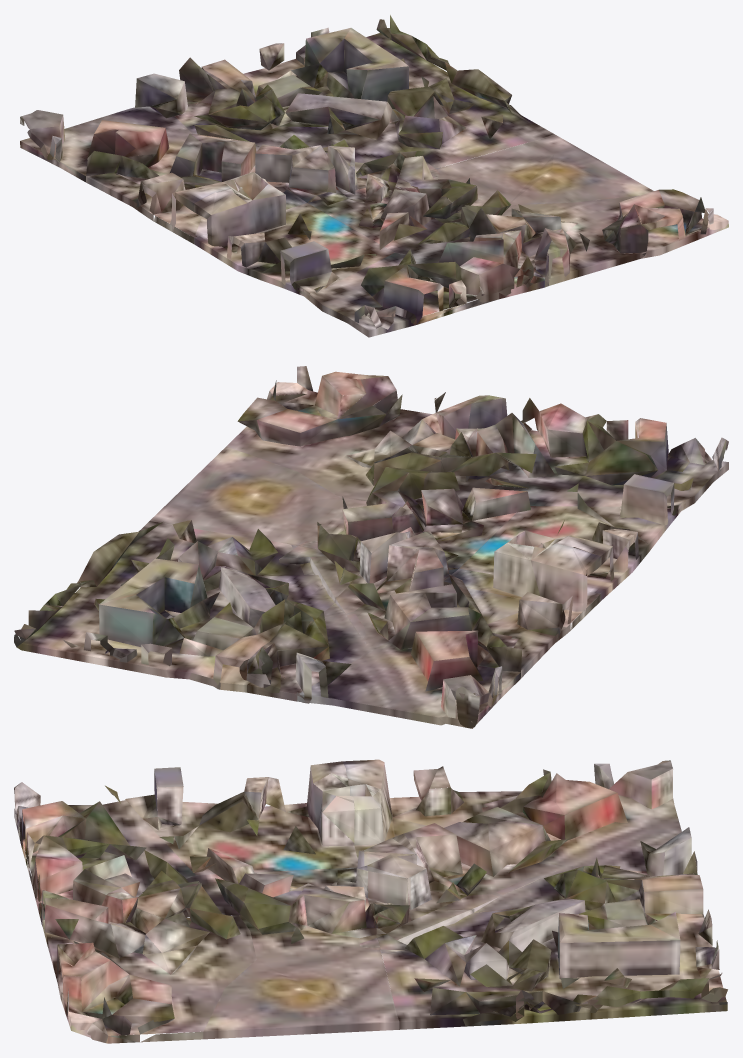
The picture shows the model from 3 angles, top to bottom: view 1: azimuth 30°, elevation 25°; view 2: azimuth 150°, elevation 25°; view 3: azimuth 270°, elevation 25°; orthographic projection. The views are drawn at different scales.
Parts seen in each view (by area): view 1: Mesh_0; view 2: Mesh_0; view 3: Mesh_0.
Boxes of the visible parts, x1,y1,x2,y2 form: Mesh_0: (20,15,728,337); Mesh_0: (14,366,728,728); Mesh_0: (14,759,727,1043).
Bounding box in the file's own units: 270 × 33.64 × 330.
2 materials, 2 textured.
